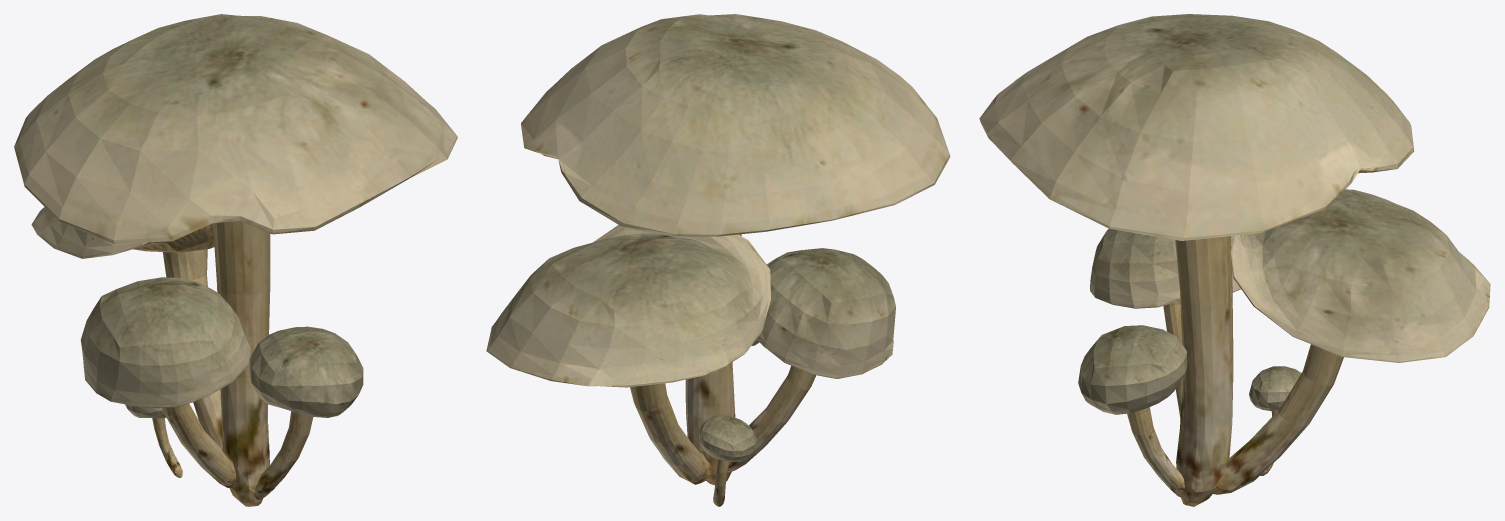
The model's file is P_Caogu_03.obj.
The picture shows the model from 3 angles, left to right: view 1: azimuth 30°, elevation 25°; view 2: azimuth 150°, elevation 25°; view 3: azimuth 270°, elevation 25°; orthographic projection. The views are drawn at different scales.
Size of the model in its own units: 0.6092 by 0.6937 by 0.6967.
1 material, 1 textured.
